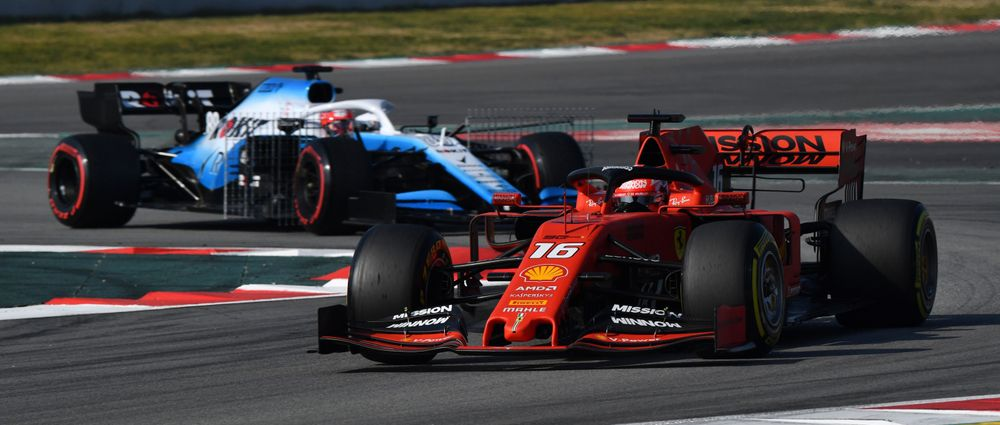f1_car: (307, 105, 946, 378), (42, 59, 602, 245)
